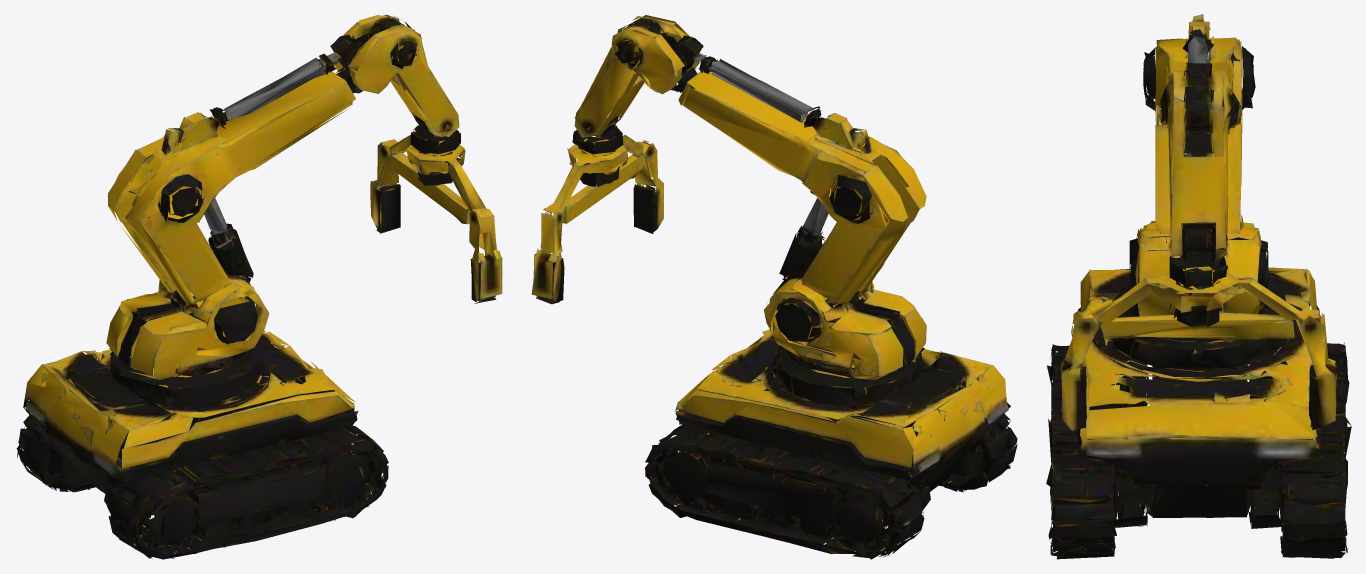
File: arm-lite.glb
3 renders of one model, left to right at view 1: azimuth 30°, elevation 25°; view 2: azimuth 150°, elevation 25°; view 3: azimuth 270°, elevation 25°, orthographic. The views are drawn at different scales.
Parts seen in each view (by area): view 1: world; view 2: world; view 3: world.
Boxes of the visible parts, left/top/right/bottom form: world: left=16, top=14, right=502, bottom=559; world: left=531, top=15, right=1017, bottom=559; world: left=1046, top=14, right=1351, bottom=559.
Bounding box in the file's own units: 0.9646 × 1 × 0.5206.
1 material, 1 textured.
